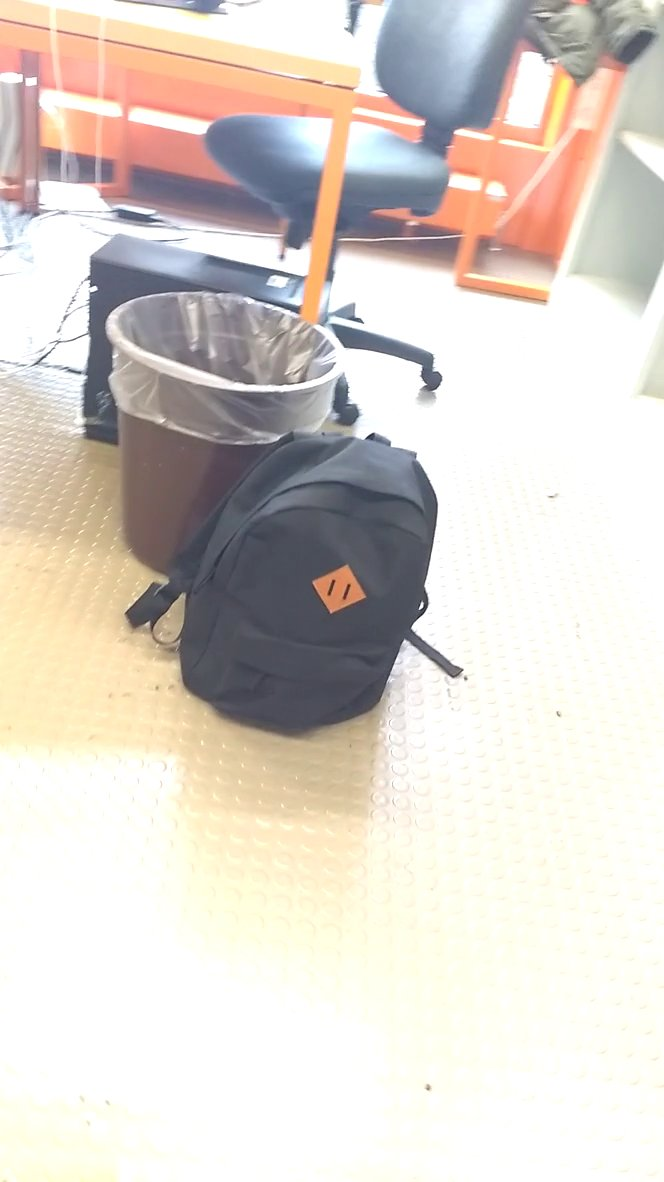bag: (114, 418, 446, 742)
bin: (101, 280, 358, 484)
chair: (202, 1, 558, 422)
